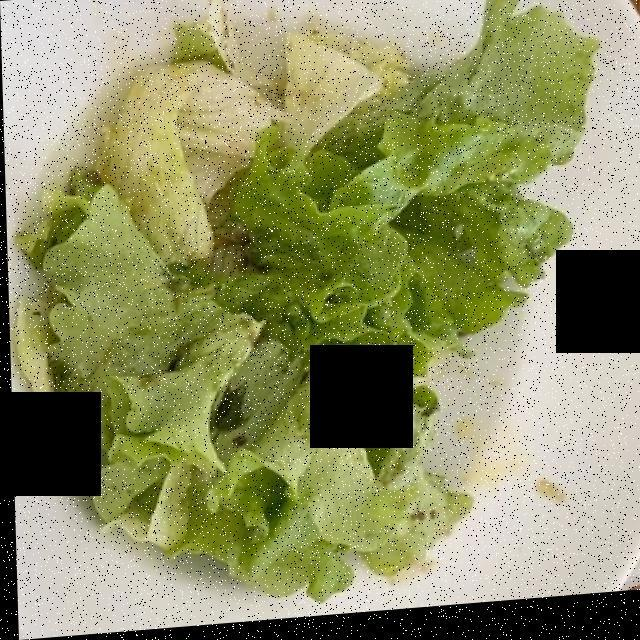salad: (48, 15, 557, 593)
